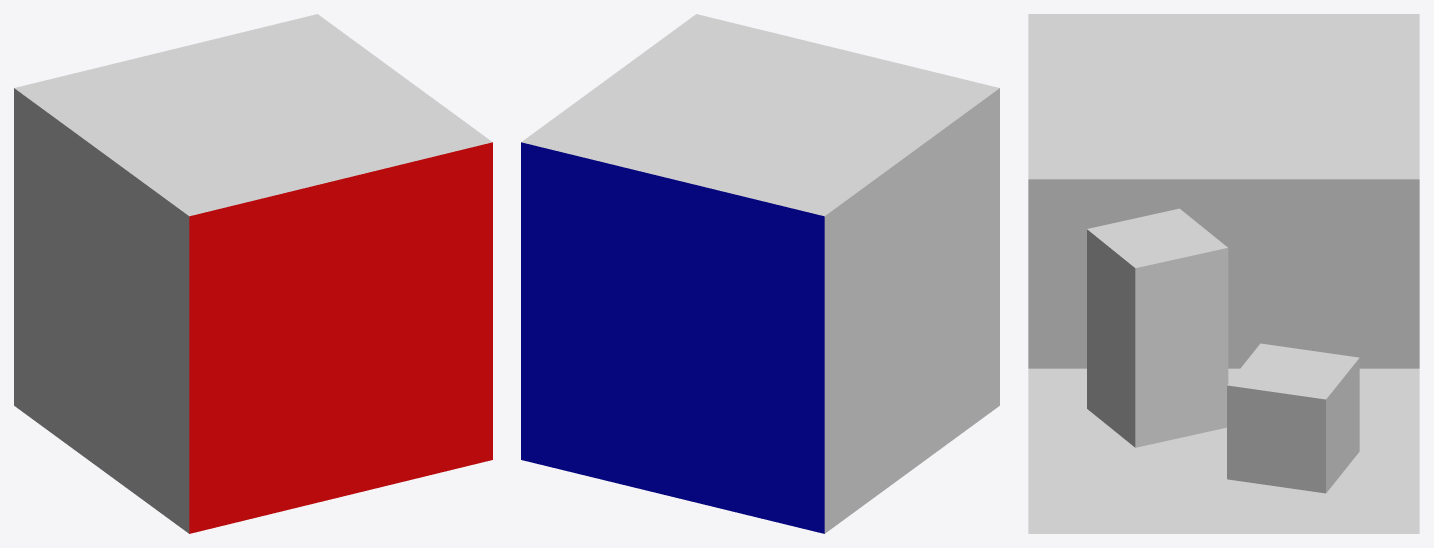
The model's file is cornell_no_light.glb.
3 renders of one model, left to right at view 1: azimuth 30°, elevation 25°; view 2: azimuth 150°, elevation 25°; view 3: azimuth 270°, elevation 25°, orthographic. The views are drawn at different scales.
Parts seen in each view (by area): view 1: Cube; view 2: Cube; view 3: Cube, Cube.001, Cube.002.
Boxes of the visible parts, x1,y1,x2,y2 form: Cube: (14, 14, 492, 533); Cube: (521, 14, 999, 533); Cube: (1028, 14, 1419, 533); Cube.001: (1087, 208, 1228, 447); Cube.002: (1227, 343, 1359, 493).
Size of the model in its own units: 2 by 2.1 by 2.
